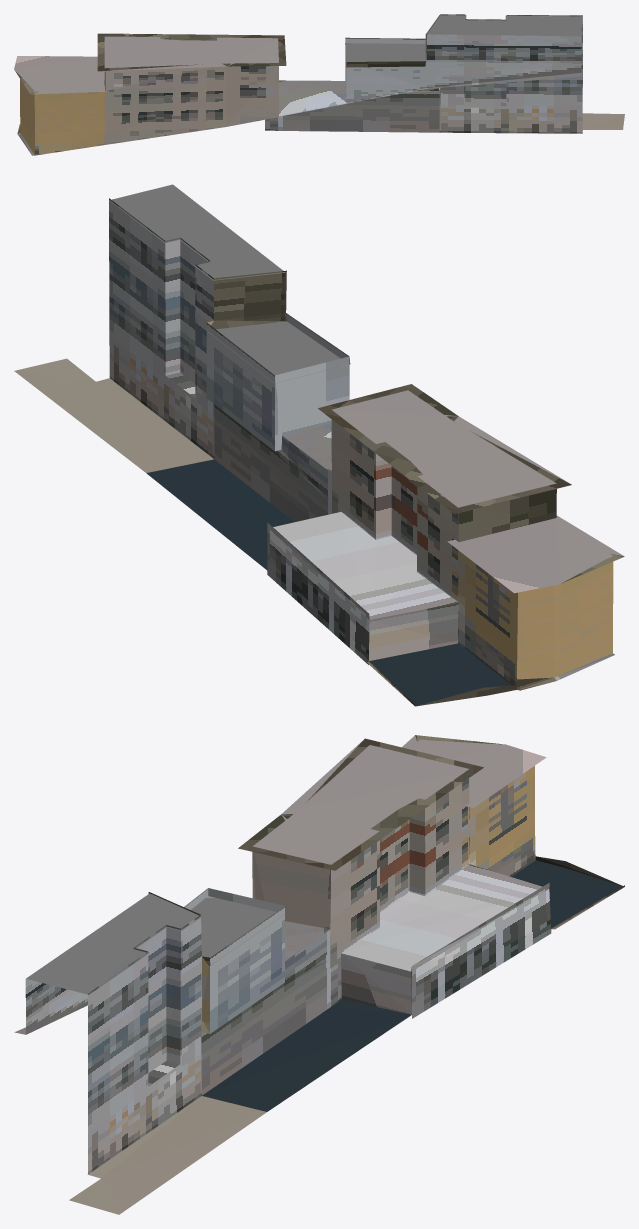
File: lodset08_law2.obj
The picture shows the model from 3 angles, top to bottom: view 1: azimuth 30°, elevation 25°; view 2: azimuth 150°, elevation 25°; view 3: azimuth 270°, elevation 25°; orthographic projection. The views are drawn at different scales.
Parts seen in each view (by area): view 1: LODset08_LAw2; view 2: LODset08_LAw2; view 3: LODset08_LAw2.
Part boxes in pixels (left/top/right/bottom): LODset08_LAw2: left=14, top=14, right=624, bottom=155; LODset08_LAw2: left=14, top=184, right=624, bottom=706; LODset08_LAw2: left=14, top=735, right=624, bottom=1214.
Bounding box in the file's own units: 98.02 × 22.37 × 68.01.
Materials: 3 (3 with a texture image).
